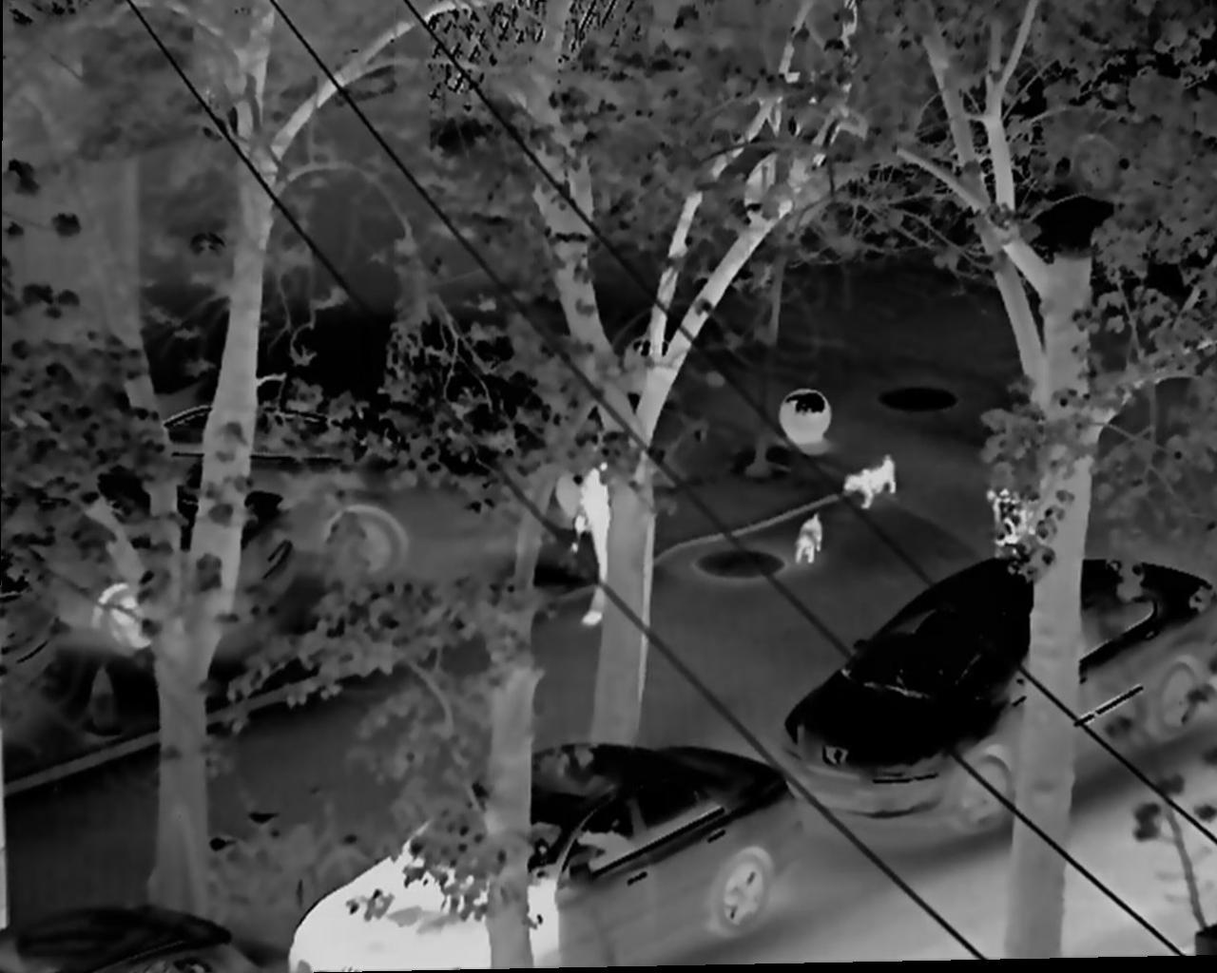person: (567, 440, 633, 635), (991, 426, 1045, 573)
